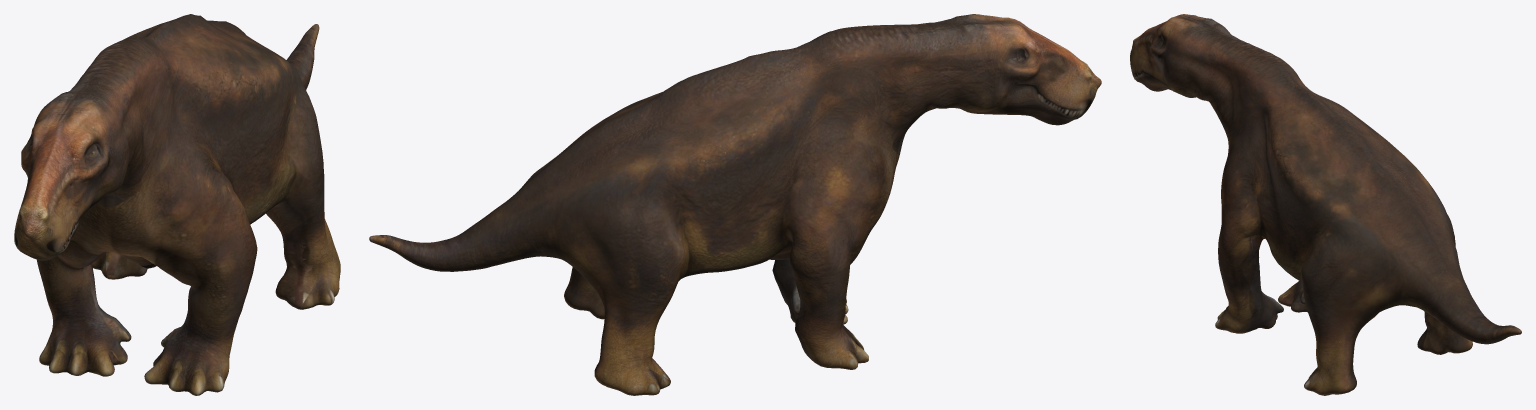
3 views of the same model, side by side, from view 1: azimuth 30°, elevation 25°; view 2: azimuth 150°, elevation 25°; view 3: azimuth 270°, elevation 25° (orthographic). The views are drawn at different scales.
Parts seen in each view (by area): view 1: Mesh_0; view 2: Mesh_0; view 3: Mesh_0.
Boxes of the visible parts, x1,y1,x2,y2 form: Mesh_0: (14,14,340,395); Mesh_0: (369,14,1101,395); Mesh_0: (1130,14,1521,395).
Size of the model in its own units: 0.8442 by 0.4965 by 0.6992.
Materials: 1 (1 with a texture image).
